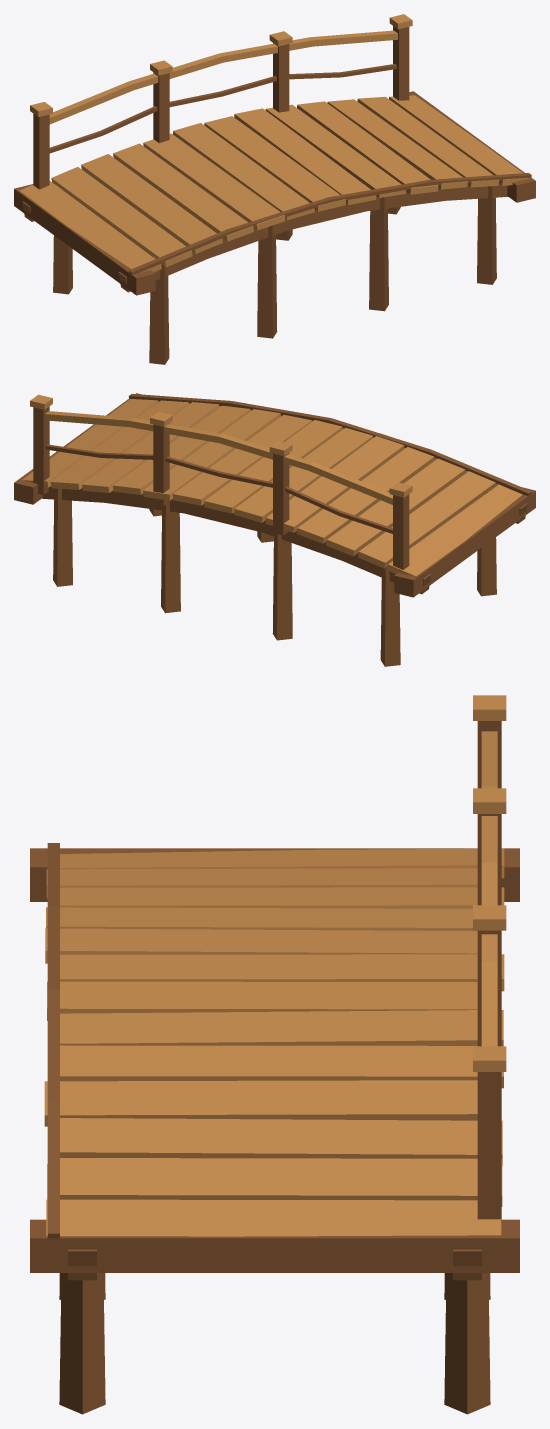
The model's file is BRG_Portal_Creek_02.fbx.
3 views of the same model, one above another, from view 1: azimuth 30°, elevation 25°; view 2: azimuth 150°, elevation 25°; view 3: azimuth 270°, elevation 25° (orthographic). The views are drawn at different scales.
Parts seen in each view (by area): view 1: BRG_Portal_Creek_02; view 2: BRG_Portal_Creek_02; view 3: BRG_Portal_Creek_02.
Part boxes in pixels (x1,y1,x2,y2): BRG_Portal_Creek_02: (14,14,535,364); BRG_Portal_Creek_02: (14,393,535,666); BRG_Portal_Creek_02: (30,695,519,1414).
Size of the model in its own units: 5.84 by 2.71 by 3.08.
